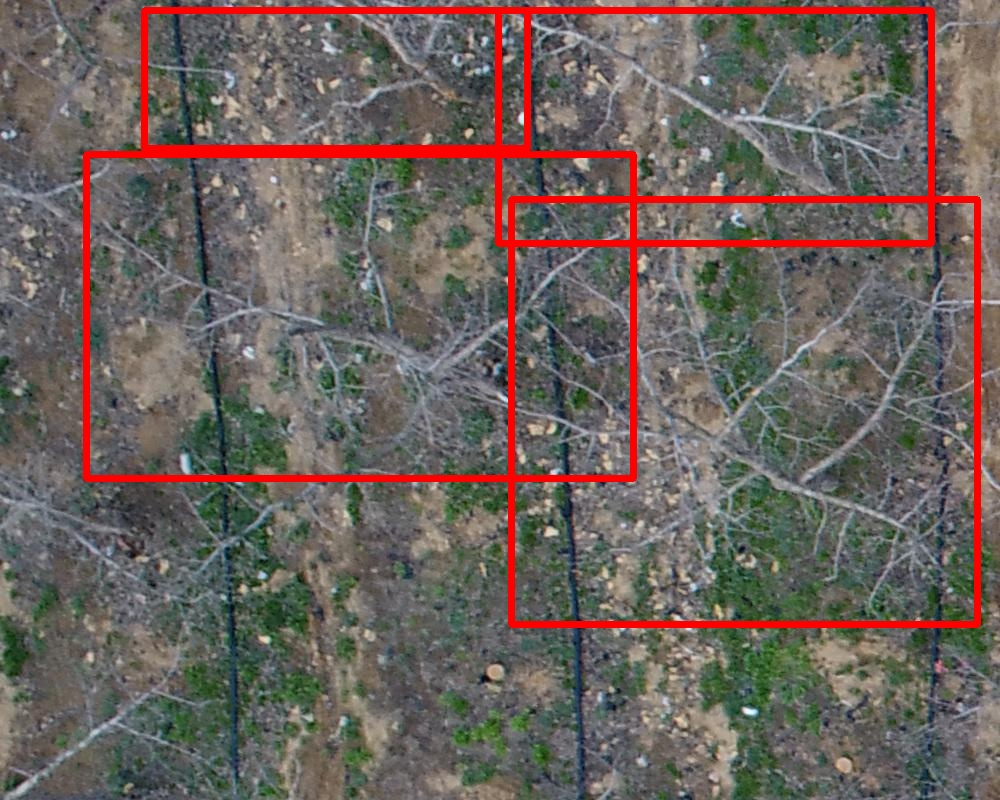apple: (511, 199, 977, 624), (86, 154, 633, 478), (498, 10, 931, 243), (144, 10, 527, 148)
